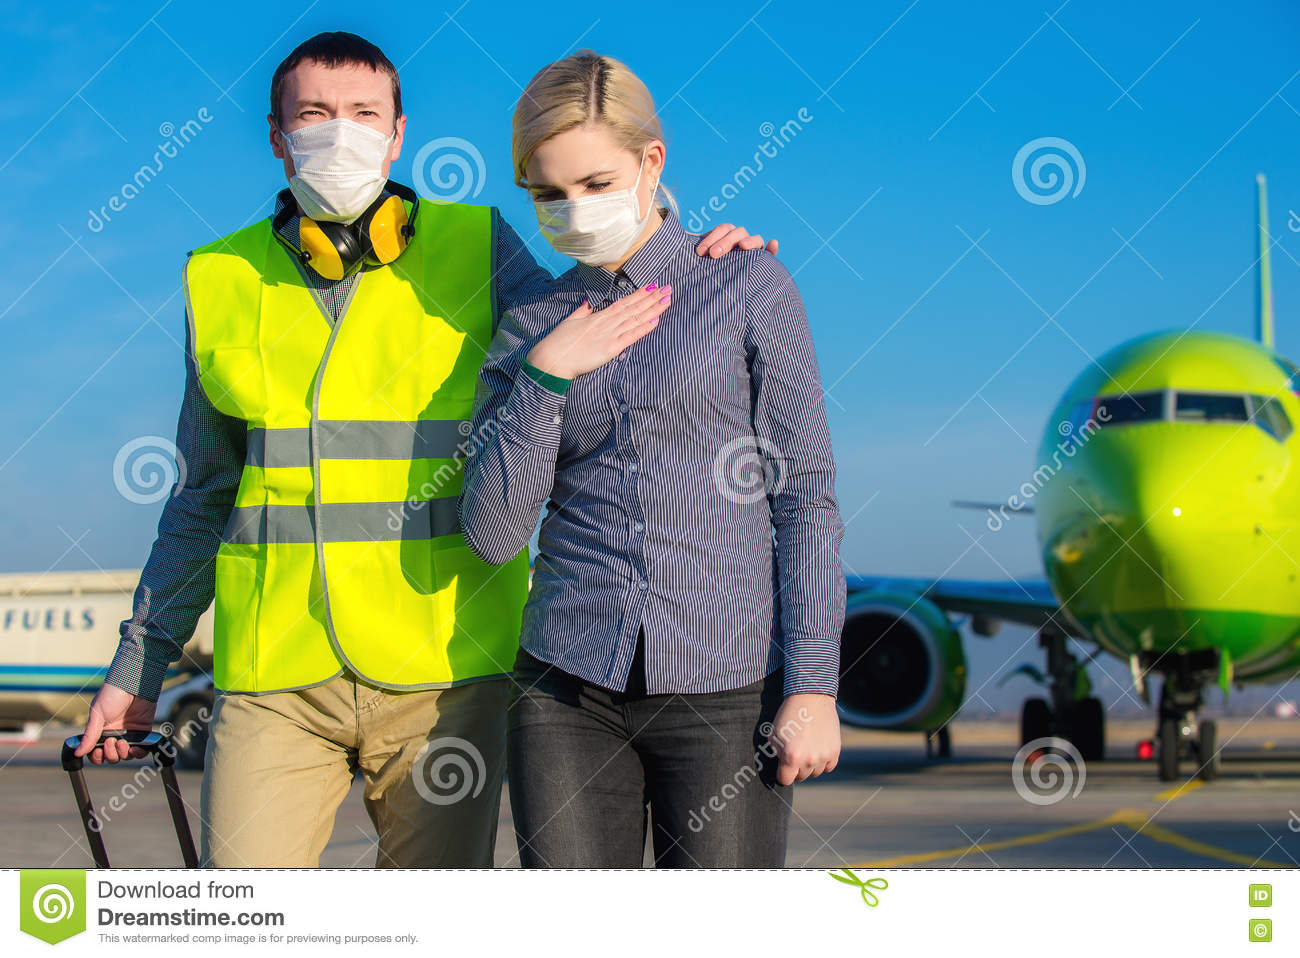mask: (288, 119, 391, 225), (537, 196, 646, 265)
